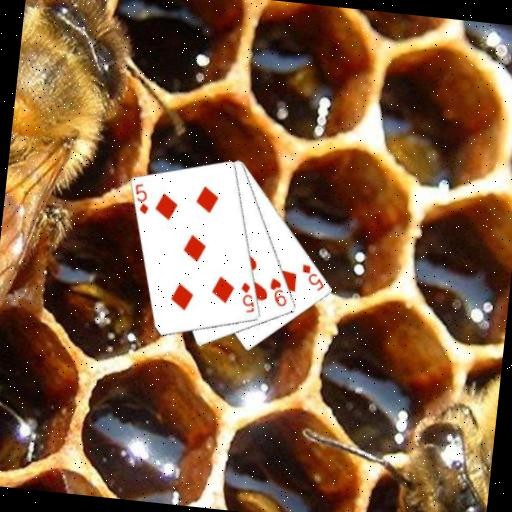5D: (297, 261, 328, 294), (235, 279, 259, 316), (130, 180, 153, 216)
9H: (265, 275, 291, 309)
